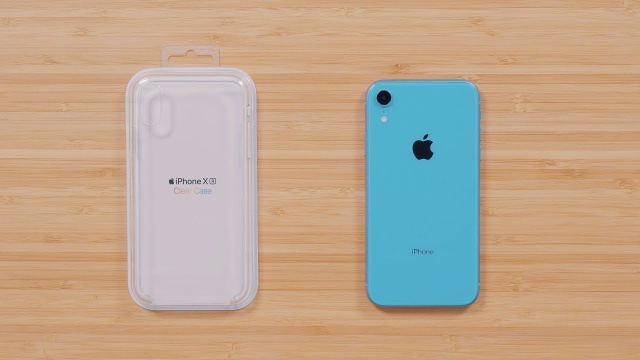apple: (403, 127, 448, 167)
